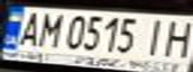0: (63, 11, 87, 51)
1: (100, 15, 121, 53)
5: (115, 15, 142, 55), (81, 12, 103, 52)
A: (12, 9, 45, 47)
H: (157, 17, 193, 59)
I: (139, 16, 172, 56)
M: (33, 10, 66, 48)
